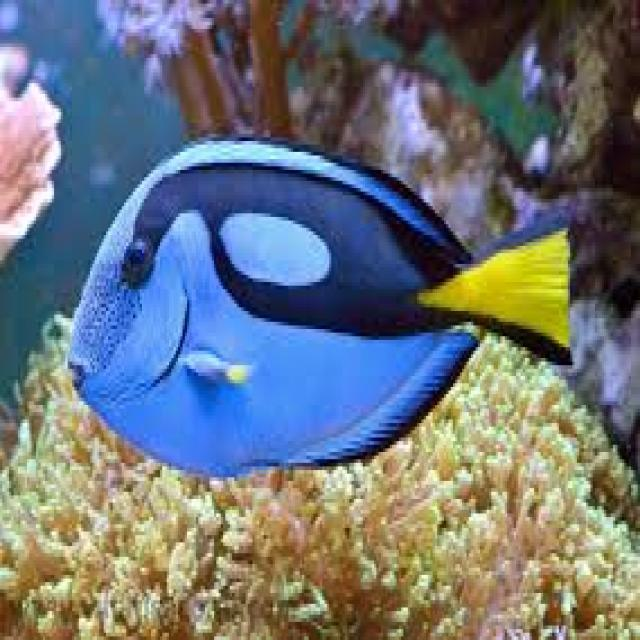TangFish: (64, 131, 574, 484)
